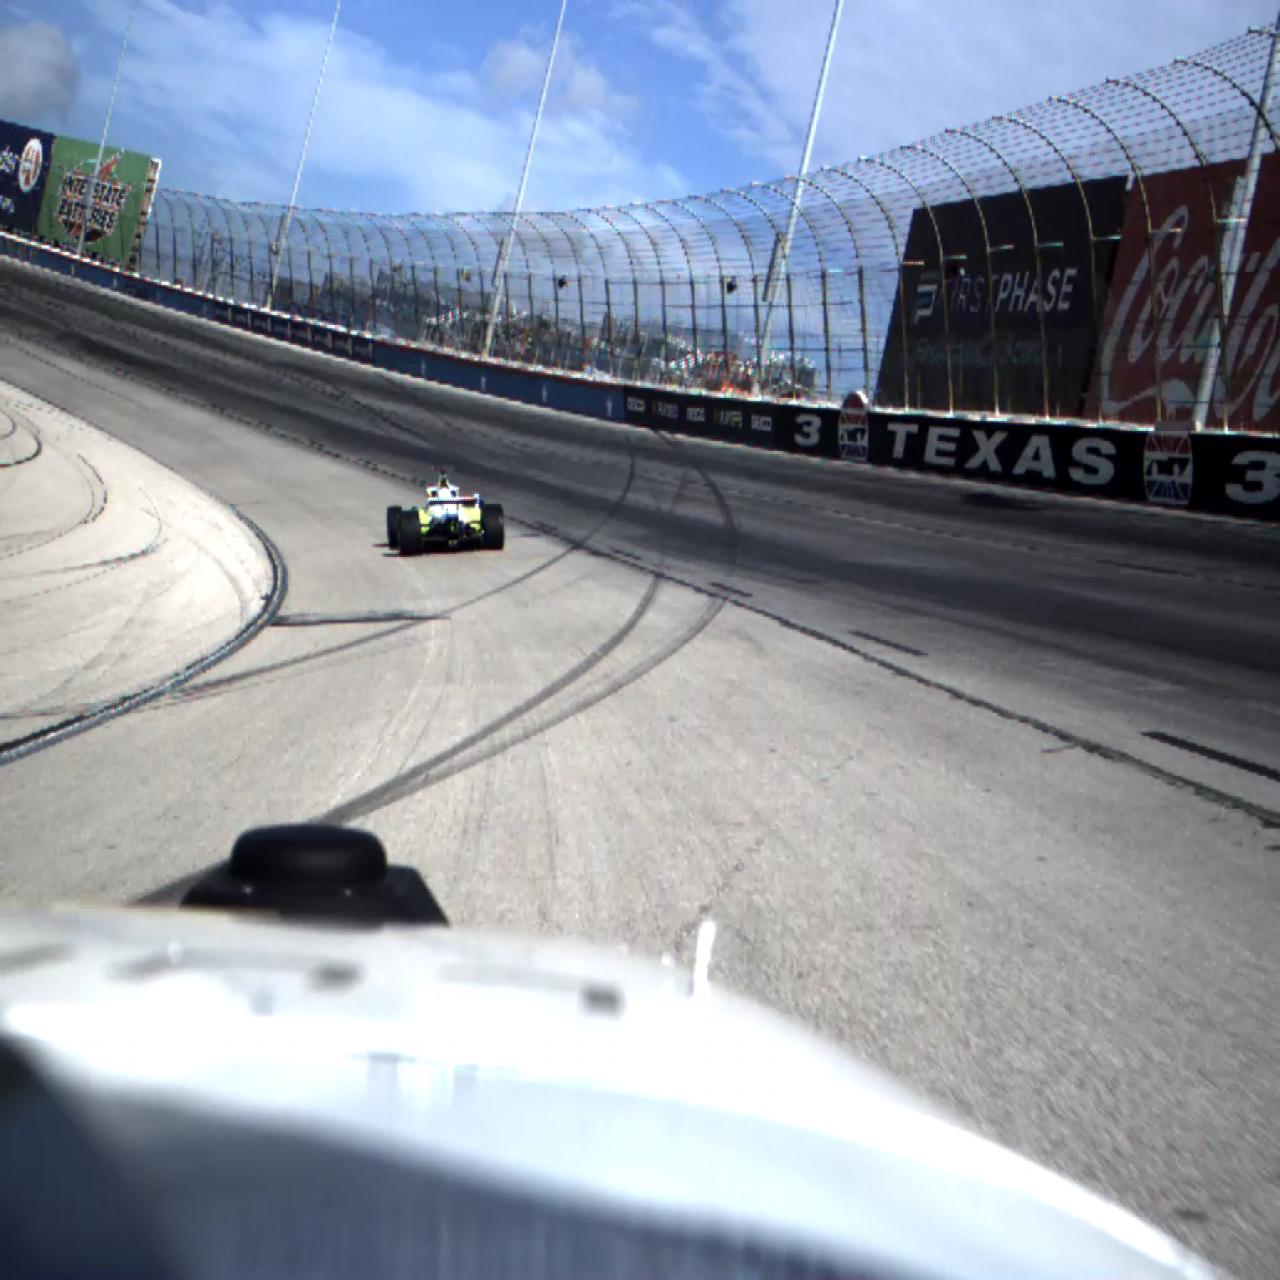AV: (387, 464, 504, 557)
Wheel: (482, 504, 504, 551), (400, 511, 421, 557), (387, 505, 403, 550)
